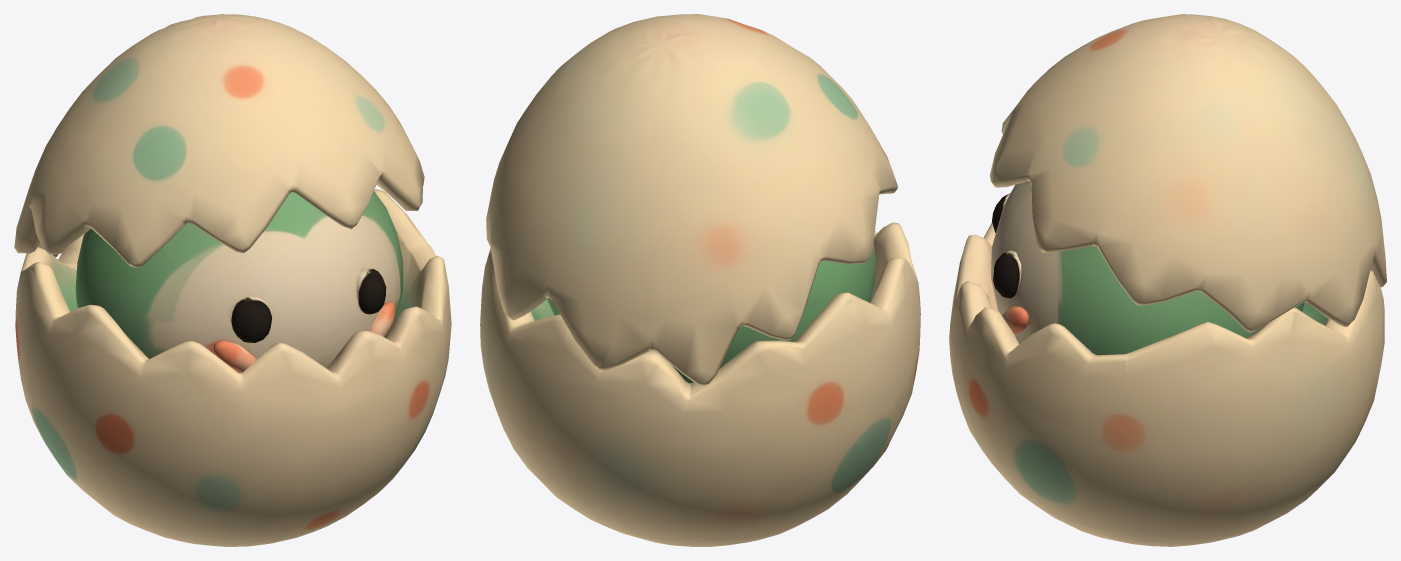
Rendered from egg-mascot-frame5.glb.
3 views of the same model, side by side, from view 1: azimuth 30°, elevation 25°; view 2: azimuth 150°, elevation 25°; view 3: azimuth 270°, elevation 25° (orthographic). The views are drawn at different scales.
Visible parts, largest first — view 1: tripo_node_ddc74e7f-8768-4bd4-b9ad-6d08d12570bf; view 2: tripo_node_ddc74e7f-8768-4bd4-b9ad-6d08d12570bf; view 3: tripo_node_ddc74e7f-8768-4bd4-b9ad-6d08d12570bf.
Part boxes in pixels (x1,y1,x2,y2): tripo_node_ddc74e7f-8768-4bd4-b9ad-6d08d12570bf: (14,14,451,546); tripo_node_ddc74e7f-8768-4bd4-b9ad-6d08d12570bf: (480,14,920,546); tripo_node_ddc74e7f-8768-4bd4-b9ad-6d08d12570bf: (949,14,1386,546).
Bounding box in the file's own units: 0.8027 × 0.998 × 0.7988.
Materials: 1 (1 with a texture image).
